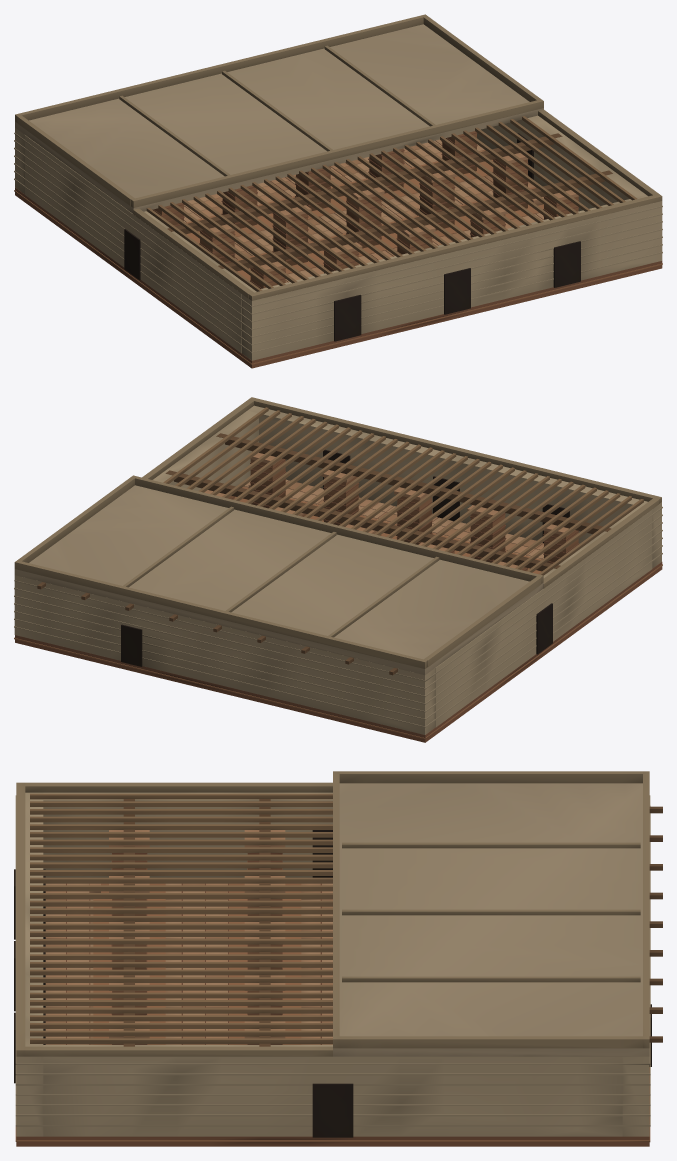
File: pillared-hall.glb
3 renders of one model, top to bottom at view 1: azimuth 30°, elevation 25°; view 2: azimuth 150°, elevation 25°; view 3: azimuth 270°, elevation 25°, orthographic. The views are drawn at different scales.
Visible parts, largest first — view 1: p2_roof, p1_walls and piers, p0_floor; view 2: p2_roof, p1_walls and piers, p0_floor; view 3: p2_roof, p1_walls and piers, p0_floor.
Part boxes in pixels (x1=…): p2_roof: x1=15, y1=14, x2=662, y2=300; p1_walls and piers: x1=14, y1=115, x2=662, y2=360; p0_floor: x1=14, y1=139, x2=662, y2=368; p2_roof: x1=14, y1=397, x2=661, y2=675; p1_walls and piers: x1=14, y1=405, x2=662, y2=734; p0_floor: x1=14, y1=479, x2=662, y2=742; p2_roof: x1=16, y1=771, x2=662, y2=1056; p1_walls and piers: x1=14, y1=792, x2=651, y2=1137; p0_floor: x1=15, y1=883, x2=650, y2=1146.
Size of the model in its own units: 28.2 by 5.25 by 28.69.
